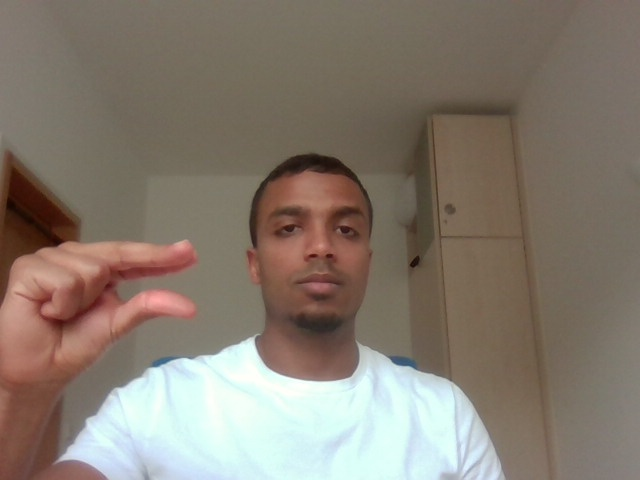never: (6, 226, 212, 390)
